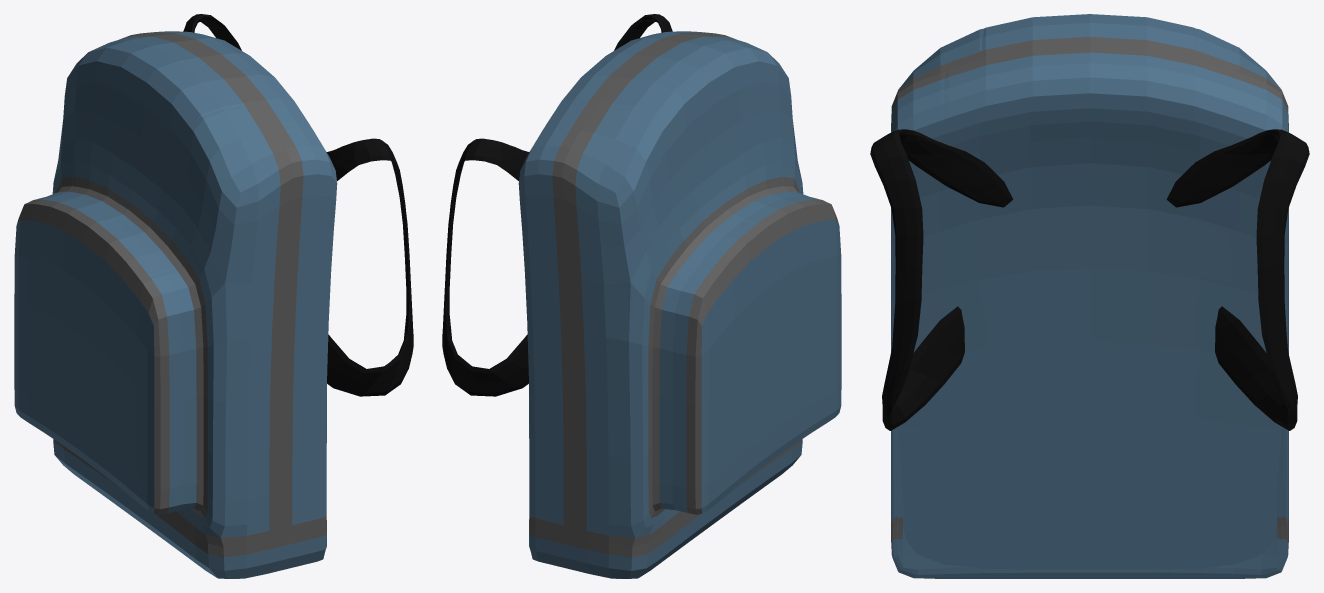
The model's file is zainounito.fbx.
3 renders of one model, left to right at view 1: azimuth 30°, elevation 25°; view 2: azimuth 150°, elevation 25°; view 3: azimuth 270°, elevation 25°, orthographic. The views are drawn at different scales.
Visible parts, largest first — view 1: Zaino; view 2: Zaino; view 3: Zaino.
Boxes of the visible parts, bbox=[...] form: Zaino: bbox=[14, 14, 413, 578]; Zaino: bbox=[442, 14, 841, 578]; Zaino: bbox=[870, 14, 1309, 578].
Size of the model in its own units: 38.47 by 67.55 by 51.47.
